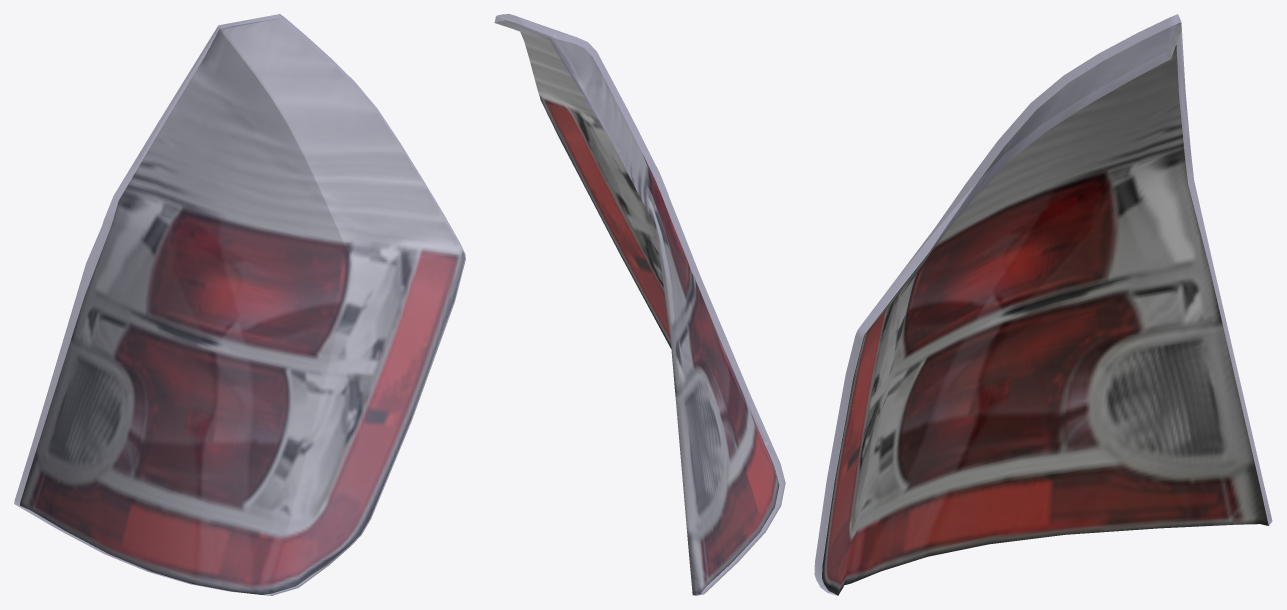
3 renders of one model, left to right at view 1: azimuth 30°, elevation 25°; view 2: azimuth 150°, elevation 25°; view 3: azimuth 270°, elevation 25°, orthographic. The views are drawn at different scales.
Parts seen in each view (by area): view 1: Z177_541C_R_1_DTaSI_Z177_541C_R, Z177_541C_R_Z177_541C_R_2_N; view 2: Z177_541C_R_Z177_541C_R_2_N, Z177_541C_R_1_DTaSI_Z177_541C_R; view 3: Z177_541C_R_Z177_541C_R_2_N, Z177_541C_R_1_DTaSI_Z177_541C_R.
Part boxes in pixels (x1,y1,x2,y2): Z177_541C_R_1_DTaSI_Z177_541C_R: [14, 14, 465, 595]; Z177_541C_R_Z177_541C_R_2_N: [20, 18, 464, 594]; Z177_541C_R_Z177_541C_R_2_N: [494, 20, 779, 594]; Z177_541C_R_1_DTaSI_Z177_541C_R: [495, 14, 785, 595]; Z177_541C_R_Z177_541C_R_2_N: [822, 22, 1268, 595]; Z177_541C_R_1_DTaSI_Z177_541C_R: [814, 14, 1272, 595].
Size of the model in its own units: 29.82 by 43.51 by 29.1.
